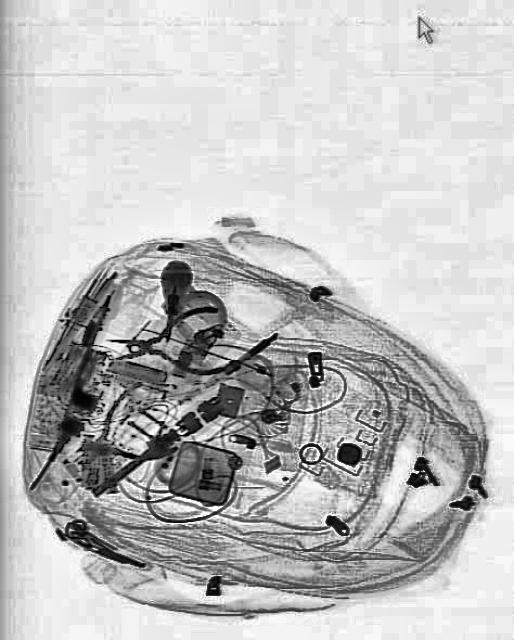Pliers: (62, 373, 178, 495), (104, 304, 226, 382)
